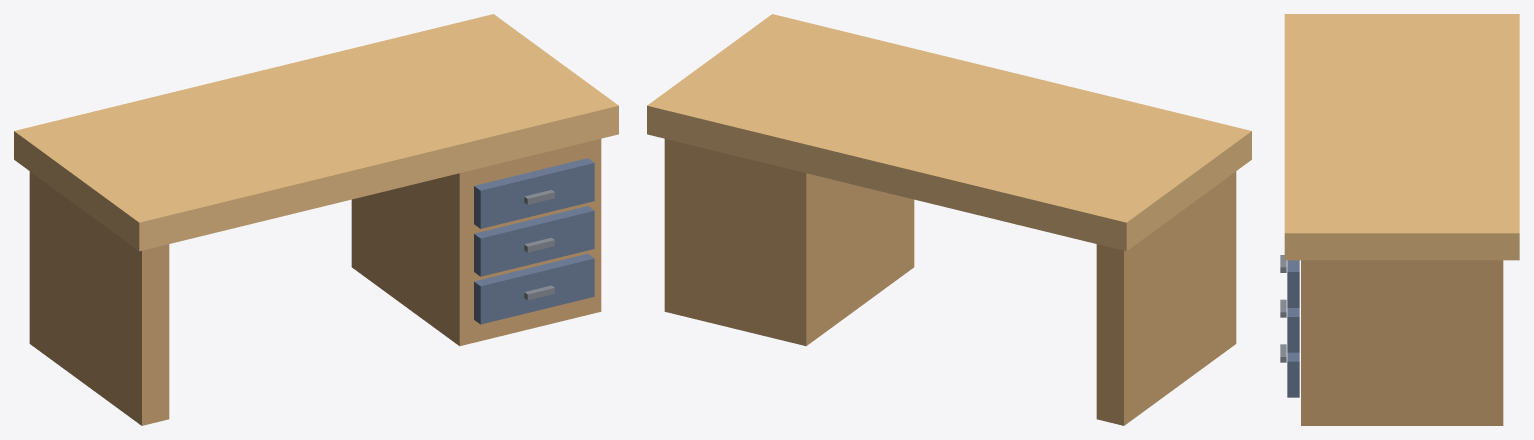
File: 08_office_desk_2.glb
3 renders of one model, left to right at view 1: azimuth 30°, elevation 25°; view 2: azimuth 150°, elevation 25°; view 3: azimuth 270°, elevation 25°, orthographic. The views are drawn at different scales.
Parts seen in each view (by area): view 1: Top, Support_cabinet, Support_L; view 2: Top, Support_cabinet, Support_L; view 3: Top, Support_cabinet.
Part boxes in pixels (x1,y1,x2,y2): Top: [14, 14, 618, 251]; Support_cabinet: [351, 139, 601, 346]; Support_L: [29, 171, 169, 425]; Top: [647, 14, 1251, 251]; Support_cabinet: [664, 139, 914, 346]; Support_L: [1096, 171, 1236, 425]; Top: [1284, 14, 1519, 260]; Support_cabinet: [1280, 255, 1503, 425].
Size of the model in its own units: 2.1 by 0.88 by 0.9675.
